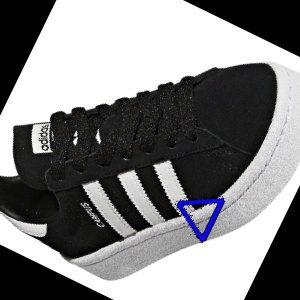triangle: (176, 197, 228, 245)
